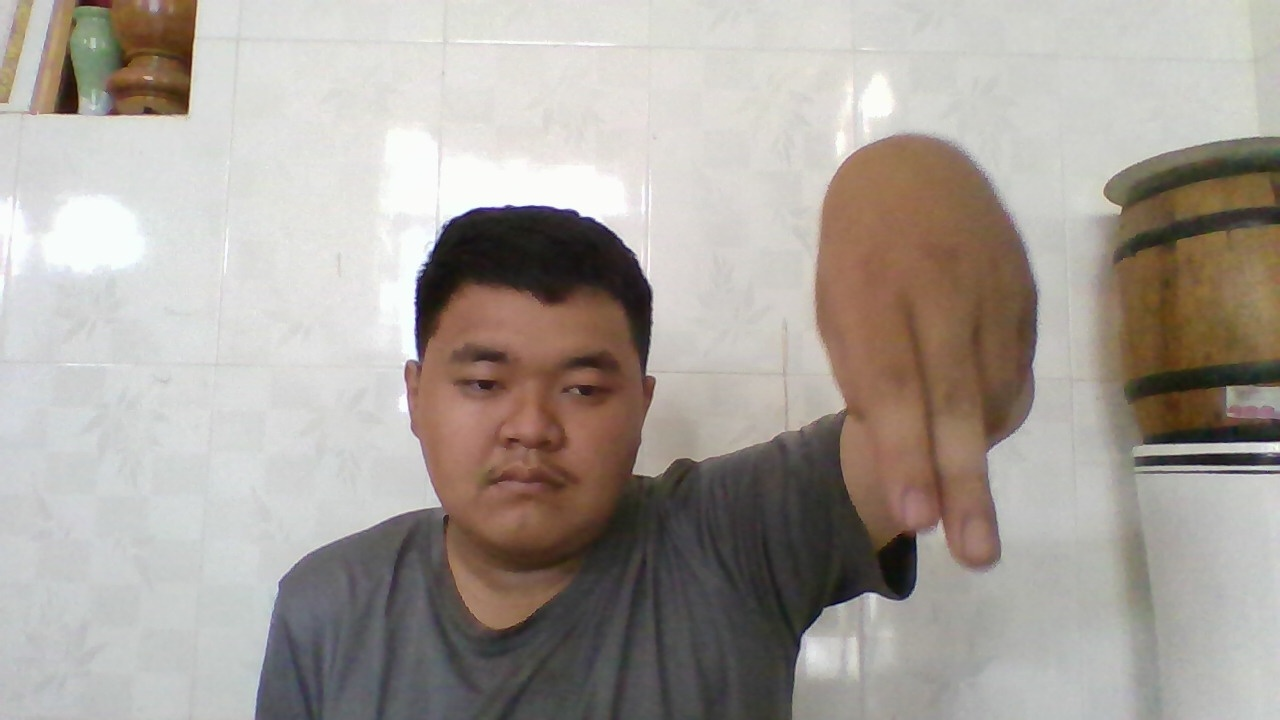N: (811, 154, 1040, 554)
